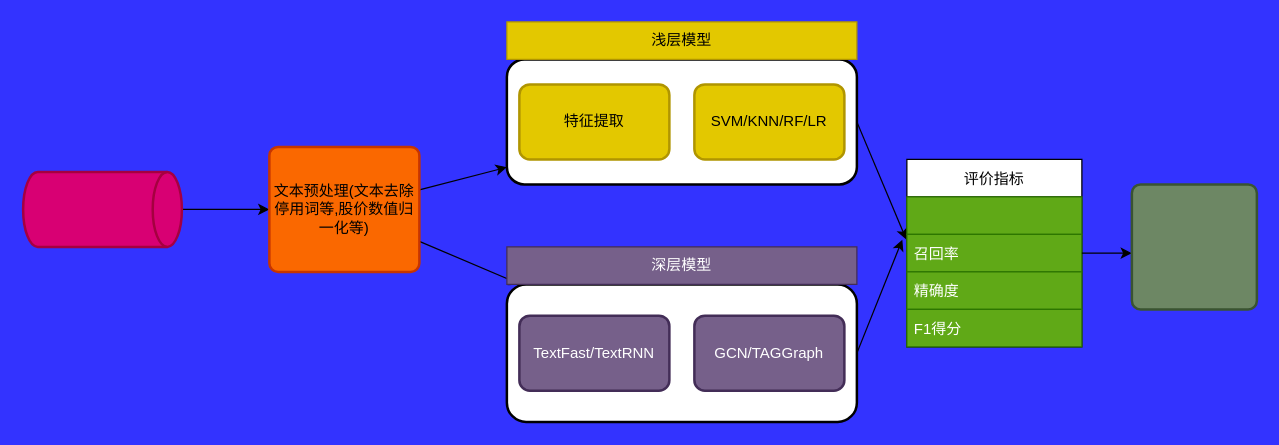
The diagram is 1279 pixels wide and 445 high, and some of its shapes have lost their labels. Here are the shapes that lost their labels. From the top down, the centre of each, then its label:
(x=101, y=209): 文本数据/股价数据
(x=994, y=215): 准确度
(x=1194, y=246): 分类(消息利空还是利好，股价涨跌)
